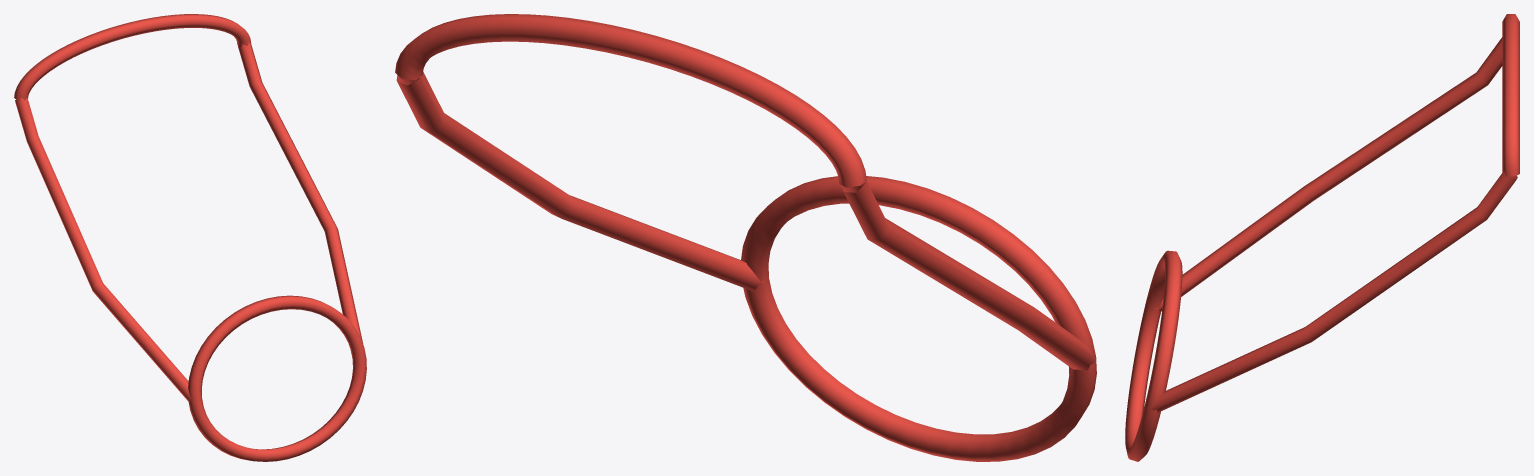
3 views of the same model, side by side, from view 1: azimuth 30°, elevation 25°; view 2: azimuth 150°, elevation 25°; view 3: azimuth 270°, elevation 25° (orthographic). The views are drawn at different scales.
Parts seen in each view (by area): view 1: noseband, cheek strap, cheek strap.001, poll strap; view 2: noseband, poll strap, cheek strap.001, cheek strap; view 3: cheek strap.001, cheek strap, noseband, poll strap.
Boxes of the visible parts, left/top/right/bottom form: noseband: left=188, top=295, right=366, bottom=461; cheek strap: left=15, top=97, right=191, bottom=401; cheek strap.001: left=238, top=42, right=363, bottom=359; poll strap: left=14, top=14, right=251, bottom=100; noseband: left=741, top=176, right=1096, bottom=461; poll strap: left=395, top=14, right=866, bottom=187; cheek strap.001: left=396, top=72, right=764, bottom=291; cheek strap: left=841, top=181, right=1095, bottom=370; cheek strap.001: left=1150, top=171, right=1517, bottom=412; cheek strap: left=1155, top=37, right=1502, bottom=312; noseband: left=1125, top=250, right=1182, bottom=461; poll strap: left=1502, top=14, right=1519, bottom=176.
Bounding box in the file's own units: 0.2417 × 0.3051 × 0.2727.
